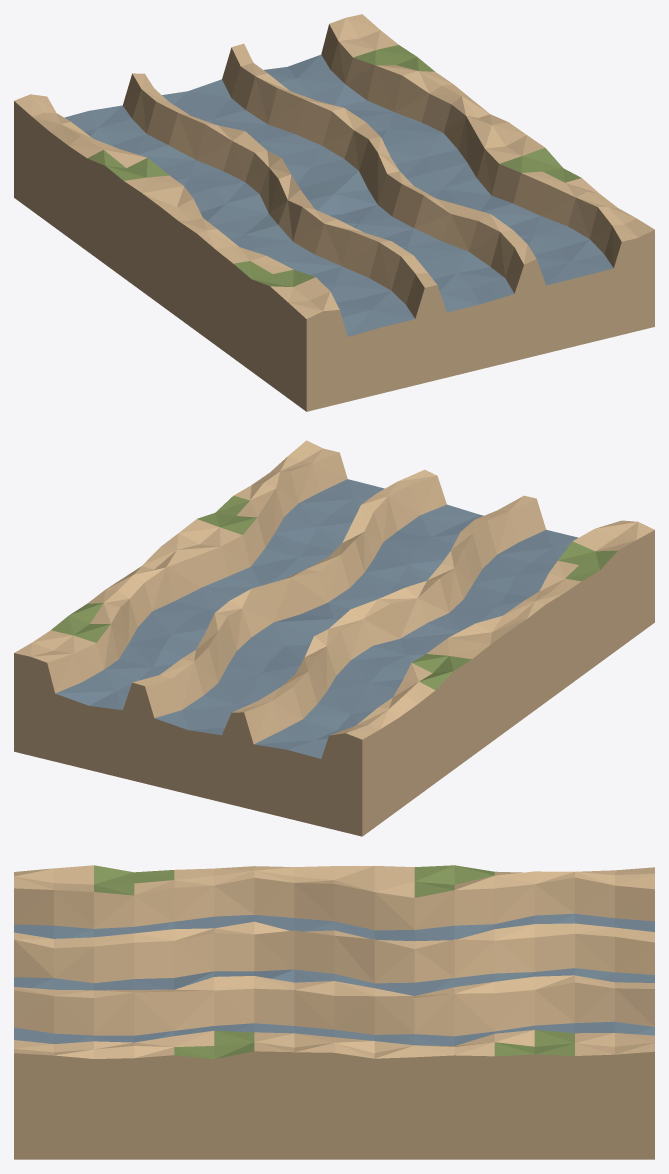
File: KANJI_18_KAWA.fbx
3 views of the same model, one above another, from view 1: azimuth 30°, elevation 25°; view 2: azimuth 150°, elevation 25°; view 3: azimuth 270°, elevation 25° (orthographic). The views are drawn at different scales.
Parts seen in each view (by area): view 1: SM_KANJI_18_Kawa; view 2: SM_KANJI_18_Kawa; view 3: SM_KANJI_18_Kawa.
Boxes of the visible parts, x1,y1,x2,y2 form: SM_KANJI_18_Kawa: (14,14,654,411); SM_KANJI_18_Kawa: (14,440,654,836); SM_KANJI_18_Kawa: (14,865,654,1159).
Bounding box in the file's own units: 0.22 × 0.06 × 0.32.
